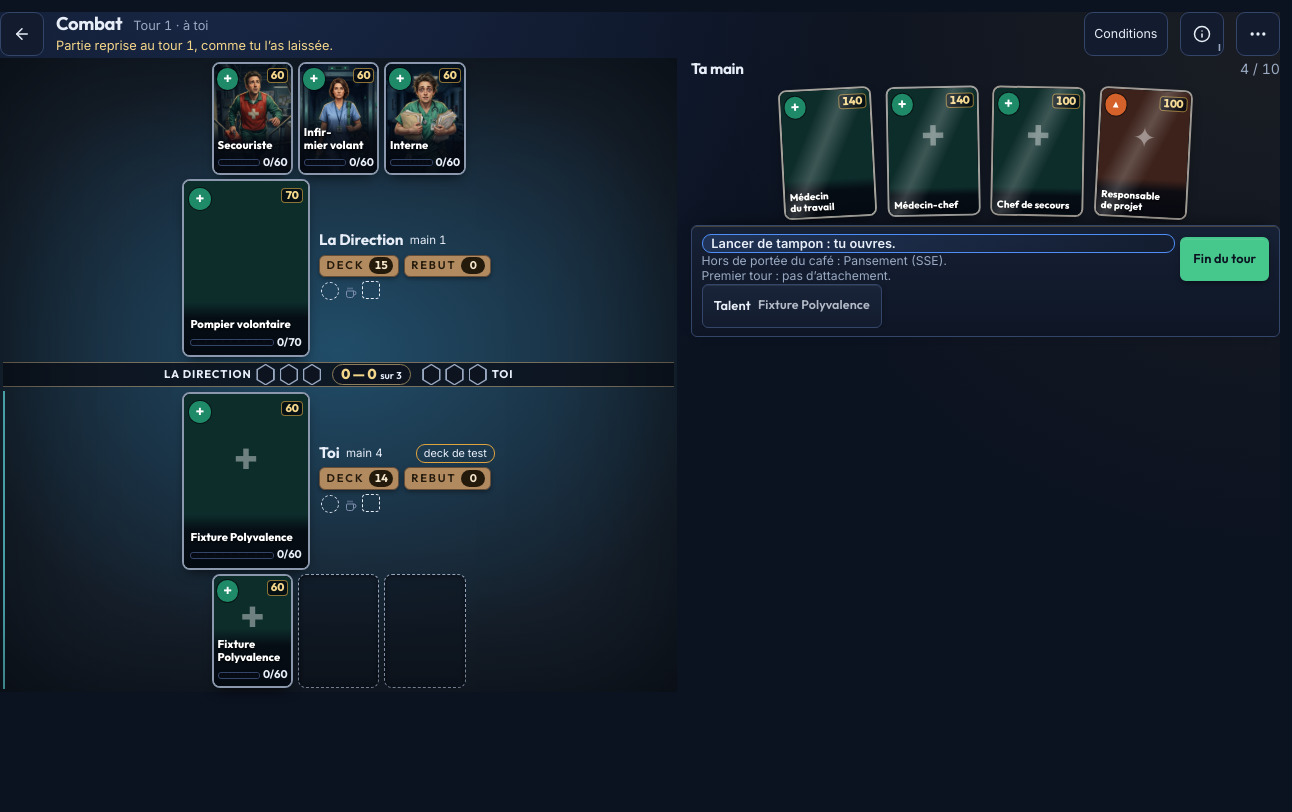
Test case: Battle — mécaniques du moteur à l’écran (#159 à #165) › 7 · café vers un Planqué du Banc (#165) › avec un Planqué au Banc, le Talent est proposé, puis le choix du Planqué est affiché
The width and height of the screenshot is (1292, 812).
What coordinates should you click on to do the following:
click the button "Talent Fixture Polyvalence"
I would click on:
 (792, 306)
Its box is [702,284,882,328].
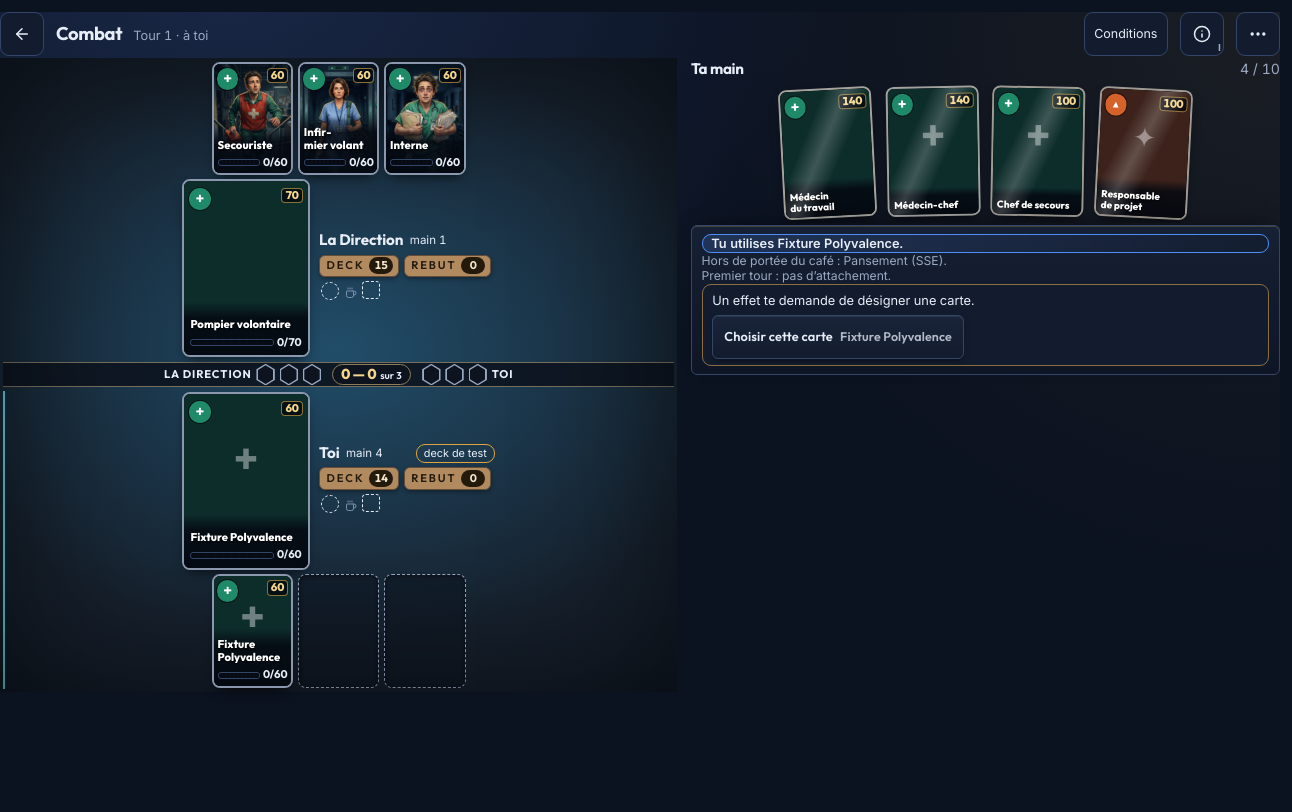
expect the element with class "choix" is shown: met, box [702,284,1269,366]
expect the number of buttons "Choisir cette carte Fixture Polyvalence" is 1: met, box [712,315,964,359]
